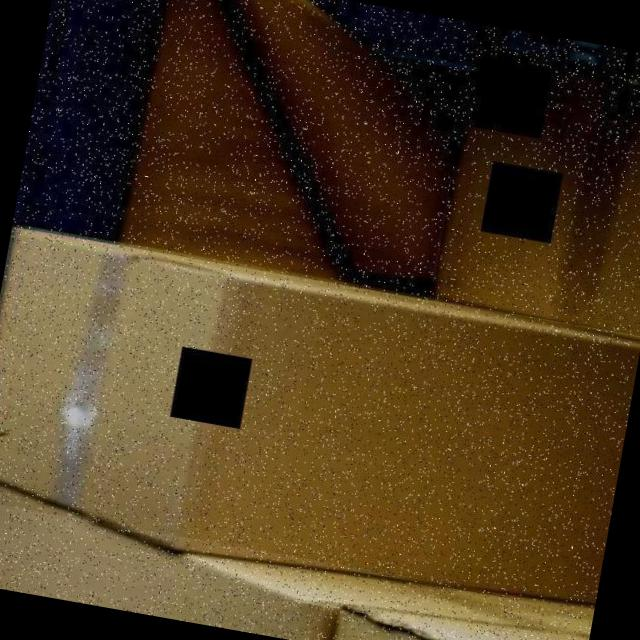box: (0, 228, 640, 609), (0, 501, 593, 640), (430, 43, 640, 336)
